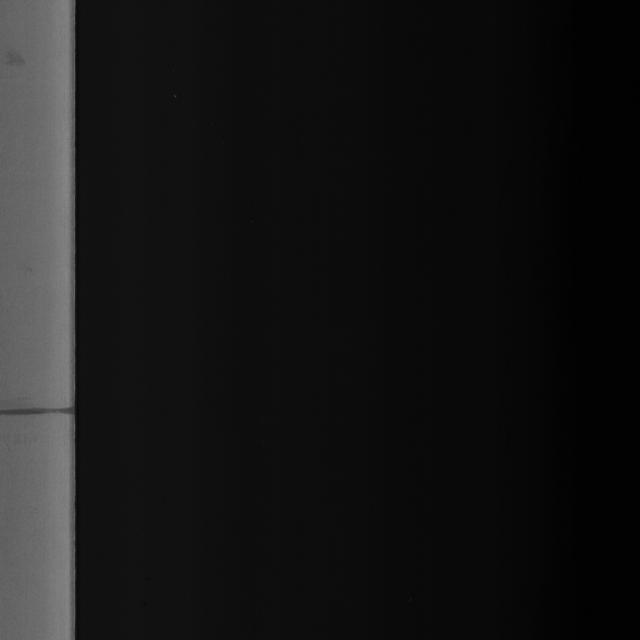rolled_pit: (3, 388, 86, 440)
